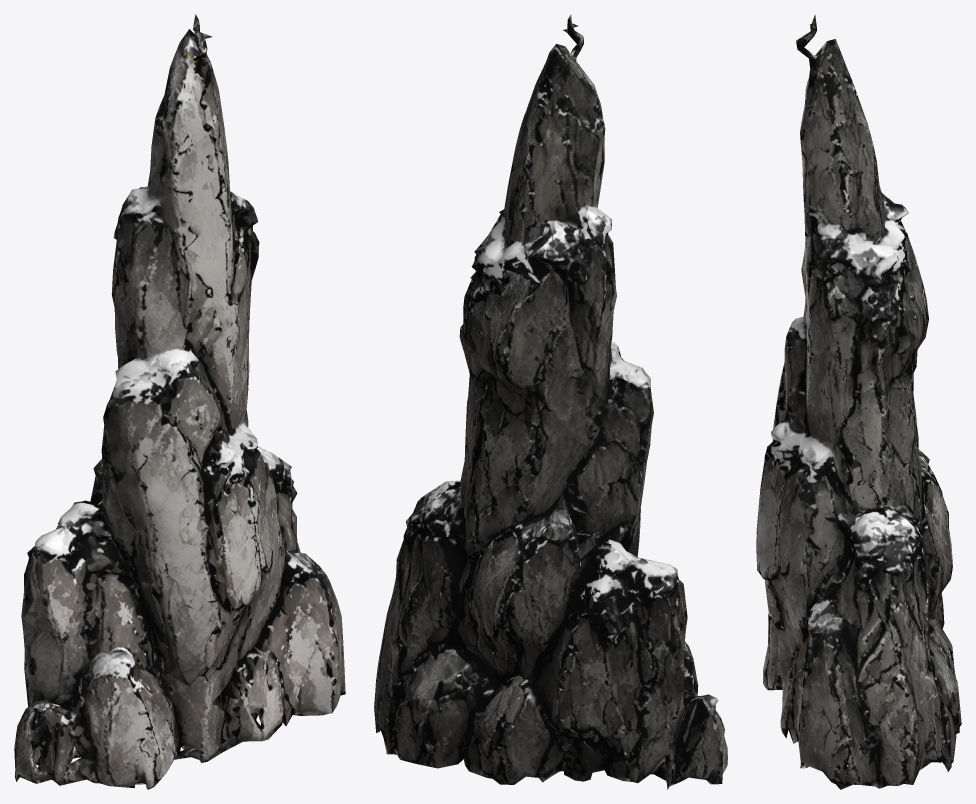
Rendered from InkPart04_Needle.fbx.
3 renders of one model, left to right at view 1: azimuth 30°, elevation 25°; view 2: azimuth 150°, elevation 25°; view 3: azimuth 270°, elevation 25°, orthographic. The views are drawn at different scales.
Parts seen in each view (by area): view 1: texture_mapping; view 2: texture_mapping; view 3: texture_mapping.
Boxes of the visible parts, x1,y1,x2,y2 form: texture_mapping: [14, 14, 345, 789]; texture_mapping: [374, 14, 727, 789]; texture_mapping: [756, 14, 961, 789].
Size of the model in its own units: 0.4485 by 0.2532 by 0.9639.
1 material, 1 textured.
